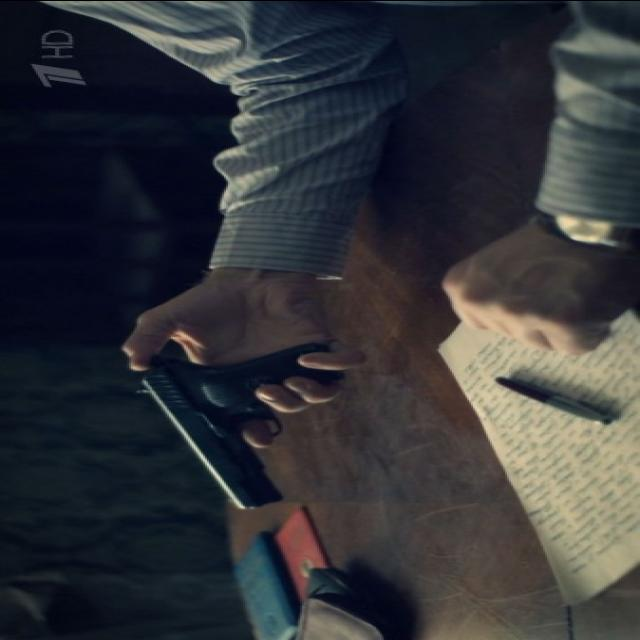weapons: (117, 328, 359, 522)
